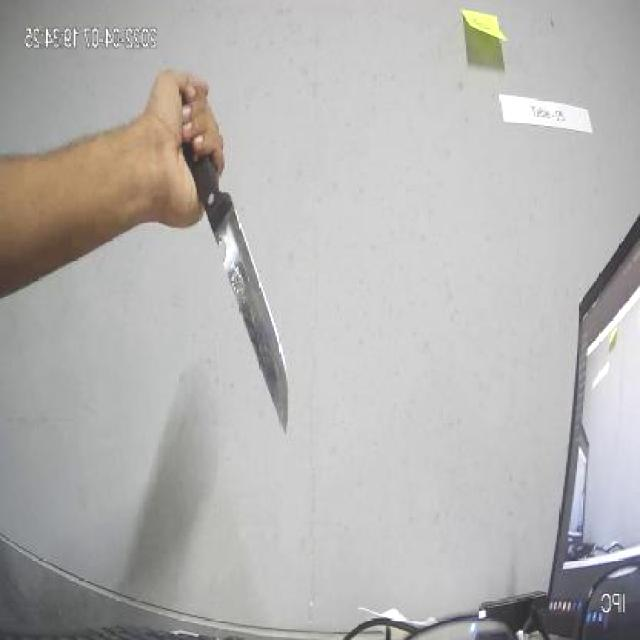knife: (142, 92, 292, 440)
